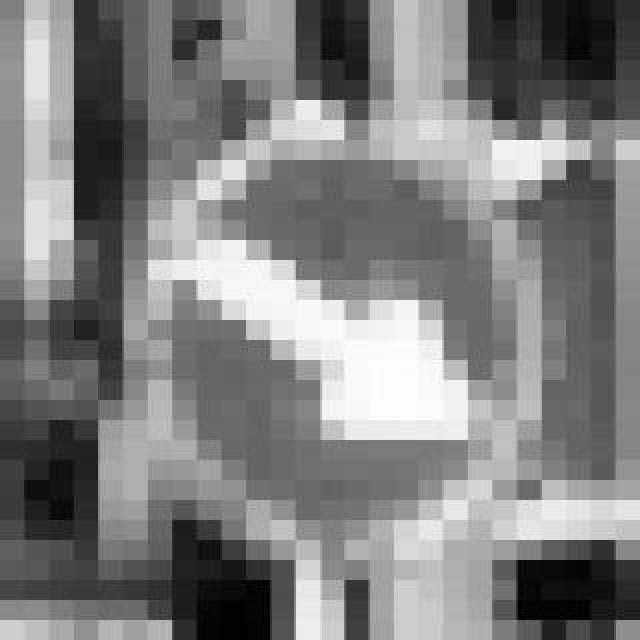keep right: (74, 120, 542, 560)
